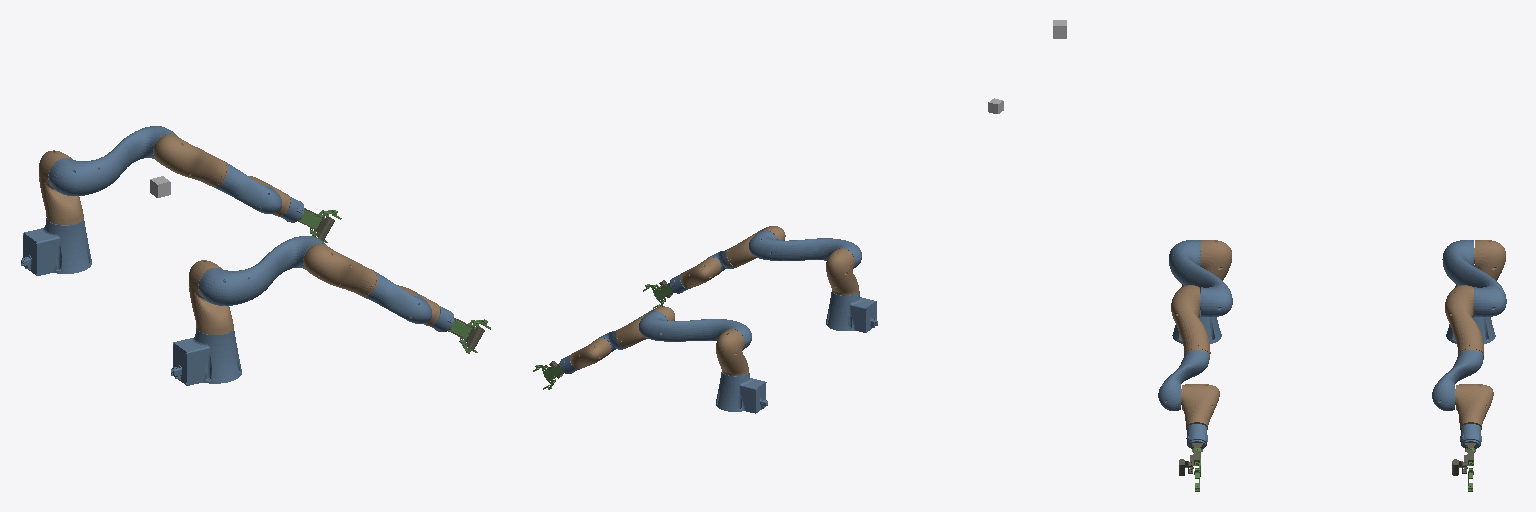
--- Render facts (derived) ---
Views: 3 orthographic renders of the robot side by side, from view 1: azimuth 30°, elevation 25°; view 2: azimuth 150°, elevation 25°; view 3: azimuth 270°, elevation 25°.
Model hsr_co605_double_arm_with_gripper with 34 links and 33 joints (12 revolute, 8 continuous, 13 fixed), rooted at world, posed all joints at 0 but 2 set to mid-range because 0 is outside their limits (joint_3 = 2.18, R_joint_3 = 2.18).
Visible links, largest first — view 1: R_link2, link2, base_link, base_link2, link3, R_link3, R_link1, link1, R_link4, link4; view 2: R_link2, link2, base_link, base_link2, link1, R_link1, R_link5, link5, link3, R_link3; view 3: link2, R_link2, R_link3, link3, R_link4, link4, link5, R_link5, R_link1, link1.
Boxes of the visible links, bbox=[...] form: R_link2: bbox=[48, 126, 175, 195]; link2: bbox=[198, 236, 325, 305]; base_link: bbox=[171, 328, 241, 385]; base_link2: bbox=[21, 218, 91, 275]; link3: bbox=[303, 243, 377, 296]; R_link3: bbox=[153, 134, 227, 186]; R_link1: bbox=[39, 150, 83, 224]; link1: bbox=[189, 260, 233, 334]; R_link4: bbox=[214, 162, 281, 213]; link4: bbox=[364, 272, 431, 323]; R_link2: bbox=[639, 311, 751, 349]; link2: bbox=[749, 230, 861, 268]; base_link: bbox=[826, 291, 877, 332]; base_link2: bbox=[716, 372, 767, 413]; link1: bbox=[826, 248, 858, 295]; R_link1: bbox=[716, 329, 748, 375]; R_link5: bbox=[570, 338, 610, 369]; link5: bbox=[680, 257, 720, 288]; link3: bbox=[726, 226, 785, 267]; R_link3: bbox=[616, 306, 674, 347]; link2: bbox=[1169, 240, 1232, 316]; R_link2: bbox=[1442, 240, 1506, 316]; R_link3: bbox=[1445, 285, 1483, 357]; link3: bbox=[1171, 285, 1210, 354]; R_link4: bbox=[1432, 350, 1483, 410]; link4: bbox=[1158, 350, 1209, 410]; link5: bbox=[1181, 384, 1219, 429]; R_link5: bbox=[1455, 384, 1493, 429]; R_link1: bbox=[1455, 240, 1505, 287]; link1: bbox=[1181, 240, 1231, 287].
Bounding box of the posed robot: 1.58 × 1.66 × 1.19 m (x, y, z).
Meshes: 15 distinct files referenced, 30 mesh visuals loaded (15 binary STL).

robot.urdf — hsr_co605_double_arm_with_gripper:
<?xml version="1.0" ?>
<!-- =================================================================================== -->
<!-- |    This document was autogenerated by xacro from hsr_co605_gripper_onhand_kinect2.xacro | -->
<!-- |    EDITING THIS FILE BY HAND IS NOT RECOMMENDED                                 | -->
<!-- =================================================================================== -->
<robot name="hsr_co605_double_arm_with_gripper" xmlns:xacro="http://ros.org/wiki/xacro">
  <link name="world"/>
  <joint name="fixed" type="fixed">
    <parent link="world"/>
    <child link="base_link"/>
    <origin rpy="0 0 0" xyz="0 0 1"/>
  </joint>
  <joint name="fixed2" type="fixed">
    <parent link="world"/>
    <child link="base_link2"/>
    <origin rpy="0 0 0" xyz="0 1 1"/>
  </joint>
  <link name="base_link">
    <inertial>
      <origin rpy="0 0 0" xyz="-0.021912 3.5206E-07 0.072666"/>
      <mass value="3.5836"/>
      <inertia ixx="2.9136E-05" ixy="-2.1811E-09" ixz="-0.00010967" iyy="0.00060536" iyz="-4.5389E-10" izz="0.000578"/>
    </inertial>
    <visual>
      <origin rpy="0 0 0" xyz="0 0 0"/>
      <geometry>
        <mesh filename="package://hsr_description/meshes/co605/base_link.STL"/>
      </geometry>
      <material name="">
        <color rgba="0.4 0.5 0.6 1"/>
      </material>
    </visual>
    <collision>
      <origin rpy="0 0 0" xyz="0 0 0"/>
      <geometry>
        <mesh filename="package://hsr_description/meshes/co605/base_link.STL"/>
      </geometry>
    </collision>
  </link>
  <link name="base_link2">
    <inertial>
      <origin rpy="0 0 0" xyz="-0.021912 3.5206E-07 0.072666"/>
      <mass value="3.5836"/>
      <inertia ixx="2.9136E-05" ixy="-2.1811E-09" ixz="-0.00010967" iyy="0.00060536" iyz="-4.5389E-10" izz="0.000578"/>
    </inertial>
    <visual>
      <origin rpy="0 0 0" xyz="0 0 0"/>
      <geometry>
        <mesh filename="package://hsr_description/meshes/co605/base_link.STL"/>
      </geometry>
      <material name="">
        <color rgba="0.4 0.5 0.6 1"/>
      </material>
    </visual>
    <collision>
      <origin rpy="0 0 0" xyz="0 0 0"/>
      <geometry>
        <mesh filename="package://hsr_description/meshes/co605/base_link.STL"/>
      </geometry>
    </collision>
  </link>
  <!--  -->
  <link name="link1">
    <inertial>
      <origin rpy="0 0 0" xyz="6.6053E-07 -0.041864 0.057461"/>
      <mass value="2.2858"/>
      <inertia ixx="0.0028736" ixy="-1.2977E-08" ixz="-1.1421E-08" iyy="0.0012558" iyz="-0.0014242" izz="0.001619"/>
    </inertial>
    <visual>
      <origin rpy="0 0 0" xyz="0 0 0"/>
      <geometry>
        <mesh filename="package://hsr_description/meshes/co605/link1.STL"/>
      </geometry>
      <material name="">
        <color rgba="0.6 0.5 0.4 1"/>
      </material>
    </visual>
    <collision>
      <origin rpy="0 0 0" xyz="0 0 0"/>
      <geometry>
        <mesh filename="package://hsr_description/meshes/co605/link1.STL"/>
      </geometry>
    </collision>
  </link>
  <joint name="joint_1" type="revolute">
    <origin rpy="-3.1416 5.9903E-29 -1.4937E-16" xyz="0 0 0.3215"/>
    <parent link="base_link"/>
    <child link="link1"/>
    <axis xyz="0 0 -1"/>
    <limit effort="28" lower="-3.1415926" upper="3.1415926" velocity="3.2"/>
    <safety_controller k_position="100" k_velocity="10" soft_lower_limit="-3.481931857728" soft_upper_limit="3.481931857728"/>
  </joint>
  <link name="link2">
    <inertial>
      <origin rpy="0 0 0" xyz="1.0568E-05 -0.1934 0.0072764"/>
      <mass value="3.9796"/>
      <inertia ixx="0.024928" ixy="-9.3143E-07" ixz="4.2908E-07" iyy="0.0049988" iyz="0.0099684" izz="0.019932"/>
    </inertial>
    <visual>
      <origin rpy="0 0 0" xyz="0 0 0"/>
      <geometry>
        <mesh filename="package://hsr_description/meshes/co605/link2.STL"/>
      </geometry>
      <material name="">
        <color rgba="0.4 0.5 0.6 1"/>
      </material>
    </visual>
    <collision>
      <origin rpy="0 0 0" xyz="0 0 0"/>
      <geometry>
        <mesh filename="package://hsr_description/meshes/co605/link2.STL"/>
      </geometry>
    </collision>
  </link>
  <joint name="joint_2" type="revolute">
    <origin rpy="1.5708 -1.5708 0" xyz="0 0 0"/>
    <parent link="link1"/>
    <child link="link2"/>
    <axis xyz="0 0 1"/>
    <limit effort="28" lower="-3.1415926" upper="0.6977" velocity="3.2"/>
    <safety_controller k_position="100" k_velocity="10" soft_lower_limit="-2.260201381332" soft_upper_limit="1"/>
  </joint>
  <link name="link3">
    <inertial>
      <origin rpy="0 0 0" xyz="-4.1646E-06 -0.084864 -0.023661"/>
      <mass value="2.3017"/>
      <inertia ixx="0.0050619" ixy="1.9871E-07" ixz="-9.377E-08" iyy="0.00080339" iyz="0.0014584" izz="0.0043189"/>
    </inertial>
    <visual>
      <origin rpy="0 0 0" xyz="0 0 0"/>
      <geometry>
        <mesh filename="package://hsr_description/meshes/co605/link3.STL"/>
      </geometry>
      <material name="">
        <color rgba="0.6 0.5 0.4 1"/>
      </material>
    </visual>
    <collision>
      <origin rpy="0 0 0" xyz="0 0 0"/>
      <geometry>
        <mesh filename="package://hsr_description/meshes/co605/link3.STL"/>
      </geometry>
    </collision>
  </link>
  <joint name="joint_3" type="revolute">
    <origin rpy="-7.0321E-15 1.0327E-14 -1.5708" xyz="0 -0.4 0"/>
    <parent link="link2"/>
    <child link="link3"/>
    <axis xyz="0 0 1"/>
    <limit effort="28" lower="0.61084" upper="3.752347" velocity="3.2"/>
    <safety_controller k_position="100" k_velocity="10" soft_lower_limit="0.008726646259" soft_upper_limit="3.656464782928"/>
  </joint>
  <link name="link4">
    <inertial>
      <origin rpy="0 0 0" xyz="0.058545 -4.4729E-06 0.33207"/>
      <mass value="1.1696"/>
      <inertia ixx="0.00052342" ixy="-2.9755E-08" ixz="-0.0004967" iyy="0.00099547" iyz="-3.1299E-08" izz="0.00047263"/>
    </inertial>
    <visual>
      <origin rpy="0 0 0" xyz="0 0 0"/>
      <geometry>
        <mesh filename="package://hsr_description/meshes/co605/link4.STL"/>
      </geometry>
      <material name="">
        <color rgba="0.4 0.5 0.6 1"/>
      </material>
    </visual>
    <collision>
      <origin rpy="0 0 0" xyz="0 0 0"/>
      <geometry>
        <mesh filename="package://hsr_description/meshes/co605/link4.STL"/>
      </geometry>
    </collision>
  </link>
  <joint name="joint_4" type="revolute">
    <origin rpy="1.5708 1.5708 0" xyz="0 0 0"/>
    <parent link="link3"/>
    <child link="link4"/>
    <axis xyz="0 0 1"/>
    <limit effort="28" lower="-1.0" upper="3.0" velocity="3.2"/>
    <safety_controller k_position="100" k_velocity="10" soft_lower_limit="-3.0" soft_upper_limit="3.0"/>
  </joint>
  <link name="link5">
    <inertial>
      <origin rpy="0 0 0" xyz="-1.4755E-07 -0.034466 0.0044663"/>
      <mass value="1.4115"/>
      <inertia ixx="0.0015897" ixy="-6.782E-09" ixz="-1.3146E-08" iyy="0.0006121" iyz="-0.00040625" izz="0.00097818"/>
    </inertial>
    <visual>
      <origin rpy="0 0 0" xyz="0 0 0"/>
      <geometry>
        <mesh filename="package://hsr_description/meshes/co605/link5.STL"/>
      </geometry>
      <material name="">
        <color rgba="0.6 0.5 0.4 1"/>
      </material>
    </visual>
    <collision>
      <origin rpy="0 0 0" xyz="0 0 0"/>
      <geometry>
        <mesh filename="package://hsr_description/meshes/co605/link5.STL"/>
      </geometry>
    </collision>
  </link>
  <joint name="joint_5" type="revolute">
    <origin rpy="-1.5708 -3.2281E-16 1.5708" xyz="0 0 0.4"/>
    <parent link="link4"/>
    <child link="link5"/>
    <axis xyz="0 0 1"/>
    <limit effort="28" lower="-1.65801388" upper="2.181597222" velocity="3.2"/>
    <safety_controller k_position="100" k_velocity="10" soft_lower_limit="-2.260201381332" soft_upper_limit="2.260201381332"/>
  </joint>
  <link name="link6">
    <inertial>
      <origin rpy="0 0 0" xyz="-9.6295E-05 0.00016669 -0.035518"/>
      <mass value="0.30888"/>
      <inertia ixx="8.8278E-05" ixy="-1.1971E-06" ixz="3.4899E-07" iyy="8.9661E-05" iyz="-6.0395E-07" izz="5.5013E-06"/>
    </inertial>
    <visual>
      <origin rpy="0 0 0" xyz="0 0 0"/>
      <geometry>
        <mesh filename="package://hsr_description/meshes/co605/link6.STL"/>
      </geometry>
      <material name="">
        <color rgba="0.4 0.5 0.6 1"/>
      </material>
    </visual>
    <collision>
      <origin rpy="0 0 0" xyz="0 0 0"/>
      <geometry>
        <mesh filename="package://hsr_description/meshes/co605/link6.STL"/>
      </geometry>
    </collision>
  </link>
  <joint name="joint_6" type="revolute">
    <origin rpy="-1.5708 2.7756E-17 -3.1416" xyz="0 -0.205 0"/>
    <parent link="link5"/>
    <child link="link6"/>
    <axis xyz="0 0 1"/>
    <limit effort="28" lower="-3.14" upper="3.14" velocity="3.2"/>
    <safety_controller k_position="100" k_velocity="10" soft_lower_limit="-5.1" soft_upper_limit="5.1"/>
  </joint>
  <!--    -->
  <link name="R_link1">
    <inertial>
      <origin rpy="0 0 0" xyz="6.6053E-07 -0.041864 0.057461"/>
      <mass value="2.2858"/>
      <inertia ixx="0.0028736" ixy="-1.2977E-08" ixz="-1.1421E-08" iyy="0.0012558" iyz="-0.0014242" izz="0.001619"/>
    </inertial>
    <visual>
      <origin rpy="0 0 0" xyz="0 0 0"/>
      <geometry>
        <mesh filename="package://hsr_description/meshes/co605/link1.STL"/>
      </geometry>
      <material name="">
        <color rgba="0.6 0.5 0.4 1"/>
      </material>
    </visual>
    <collision>
      <origin rpy="0 0 0" xyz="0 0 0"/>
      <geometry>
        <mesh filename="package://hsr_description/meshes/co605/link1.STL"/>
      </geometry>
    </collision>
  </link>
  <joint name="R_joint_1" type="revolute">
    <origin rpy="-3.1416 5.9903E-29 -1.4937E-16" xyz="0 0 0.3215"/>
    <parent link="base_link2"/>
    <child link="R_link1"/>
    <axis xyz="0 0 -1"/>
    <limit effort="28" lower="-3.490658503988" upper="3.490658503988" velocity="3.2"/>
    <safety_controller k_position="100" k_velocity="10" soft_lower_limit="-3.481931857728" soft_upper_limit="3.481931857728"/>
  </joint>
  <link name="R_link2">
    <inertial>
      <origin rpy="0 0 0" xyz="1.0568E-05 -0.1934 0.0072764"/>
      <mass value="3.9796"/>
      <inertia ixx="0.024928" ixy="-9.3143E-07" ixz="4.2908E-07" iyy="0.0049988" iyz="0.0099684" izz="0.019932"/>
    </inertial>
    <visual>
      <origin rpy="0 0 0" xyz="0 0 0"/>
      <geometry>
        <mesh filename="package://hsr_description/meshes/co605/link2.STL"/>
      </geometry>
      <material name="">
        <color rgba="0.4 0.5 0.6 1"/>
      </material>
    </visual>
    <collision>
      <origin rpy="0 0 0" xyz="0 0 0"/>
      <geometry>
        <mesh filename="package://hsr_description/meshes/co605/link2.STL"/>
      </geometry>
    </collision>
  </link>
  <joint name="R_joint_2" type="revolute">
    <origin rpy="1.5708 -1.5708 0" xyz="0 0 0"/>
    <parent link="R_link1"/>
    <child link="R_link2"/>
    <axis xyz="0 0 1"/>
    <limit effort="28" lower="-2.268928027592" upper="1" velocity="3.2"/>
    <safety_controller k_position="100" k_velocity="10" soft_lower_limit="-2.260201381332" soft_upper_limit="1"/>
  </joint>
  <link name="R_link3">
    <inertial>
      <origin rpy="0 0 0" xyz="-4.1646E-06 -0.084864 -0.023661"/>
      <mass value="2.3017"/>
      <inertia ixx="0.0050619" ixy="1.9871E-07" ixz="-9.377E-08" iyy="0.00080339" iyz="0.0014584" izz="0.0043189"/>
    </inertial>
    <visual>
      <origin rpy="0 0 0" xyz="0 0 0"/>
      <geometry>
        <mesh filename="package://hsr_description/meshes/co605/link3.STL"/>
      </geometry>
      <material name="">
        <color rgba="0.6 0.5 0.4 1"/>
      </material>
    </visual>
    <collision>
      <origin rpy="0 0 0" xyz="0 0 0"/>
      <geometry>
        <mesh filename="package://hsr_description/meshes/co605/link3.STL"/>
      </geometry>
    </collision>
  </link>
  <joint name="R_joint_3" type="revolute">
    <origin rpy="-7.0321E-15 1.0327E-14 -1.5708" xyz="0 -0.4 0"/>
    <parent link="R_link2"/>
    <child link="R_link3"/>
    <axis xyz="0 0 1"/>
    <limit effort="28" lower="0.61084" upper="3.752347" velocity="3.2"/>
    <safety_controller k_position="100" k_velocity="10" soft_lower_limit="0.008726646259" soft_upper_limit="3.656464782928"/>
  </joint>
  <link name="R_link4">
    <inertial>
      <origin rpy="0 0 0" xyz="0.058545 -4.4729E-06 0.33207"/>
      <mass value="1.1696"/>
      <inertia ixx="0.00052342" ixy="-2.9755E-08" ixz="-0.0004967" iyy="0.00099547" iyz="-3.1299E-08" izz="0.00047263"/>
    </inertial>
    <visual>
      <origin rpy="0 0 0" xyz="0 0 0"/>
      <geometry>
        <mesh filename="package://hsr_description/meshes/co605/link4.STL"/>
      </geometry>
      <material name="">
        <color rgba="0.4 0.5 0.6 1"/>
      </material>
    </visual>
    <collision>
      <origin rpy="0 0 0" xyz="0 0 0"/>
      <geometry>
        <mesh filename="package://hsr_description/meshes/co605/link4.STL"/>
      </geometry>
    </collision>
  </link>
  <joint name="R_joint_4" type="revolute">
    <origin rpy="1.5708 1.5708 0" xyz="0 0 0"/>
    <parent link="R_link3"/>
    <child link="R_link4"/>
    <axis xyz="0 0 1"/>
    <limit effort="28" lower="-3.0" upper="1.0" velocity="3.2"/>
    <safety_controller k_position="100" k_velocity="10" soft_lower_limit="-3.0" soft_upper_limit="3.0"/>
  </joint>
  <link name="R_link5">
    <inertial>
      <origin rpy="0 0 0" xyz="-1.4755E-07 -0.034466 0.0044663"/>
      <mass value="1.4115"/>
      <inertia ixx="0.0015897" ixy="-6.782E-09" ixz="-1.3146E-08" iyy="0.0006121" iyz="-0.00040625" izz="0.00097818"/>
    </inertial>
    <visual>
      <origin rpy="0 0 0" xyz="0 0 0"/>
      <geometry>
        <mesh filename="package://hsr_description/meshes/co605/link5.STL"/>
      </geometry>
      <material name="">
        <color rgba="0.6 0.5 0.4 1"/>
      </material>
    </visual>
    <collision>
      <origin rpy="0 0 0" xyz="0 0 0"/>
      <geometry>
        <mesh filename="package://hsr_description/meshes/co605/link5.STL"/>
      </geometry>
    </collision>
  </link>
  <joint name="R_joint_5" type="revolute">
    <origin rpy="-1.5708 -3.2281E-16 1.5708" xyz="0 0 0.4"/>
    <parent link="R_link4"/>
    <child link="R_link5"/>
    <axis xyz="0 0 1"/>
    <limit effort="28" lower="-1.65801388" upper="2.181597222" velocity="3.2"/>
    <safety_controller k_position="100" k_velocity="10" soft_lower_limit="-2.260201381332" soft_upper_limit="2.260201381332"/>
  </joint>
  <link name="R_link6">
    <inertial>
      <origin rpy="0 0 0" xyz="-9.6295E-05 0.00016669 -0.035518"/>
      <mass value="0.30888"/>
      <inertia ixx="8.8278E-05" ixy="-1.1971E-06" ixz="3.4899E-07" iyy="8.9661E-05" iyz="-6.0395E-07" izz="5.5013E-06"/>
    </inertial>
    <visual>
      <origin rpy="0 0 0" xyz="0 0 0"/>
      <geometry>
        <mesh filename="package://hsr_description/meshes/co605/link6.STL"/>
      </geometry>
      <material name="">
        <color rgba="0.4 0.5 0.6 1"/>
      </material>
    </visual>
    <collision>
      <origin rpy="0 0 0" xyz="0 0 0"/>
      <geometry>
        <mesh filename="package://hsr_description/meshes/co605/link6.STL"/>
      </geometry>
    </collision>
  </link>
  <joint name="R_joint_6" type="revolute">
    <origin rpy="-1.5708 2.7756E-17 -3.1416" xyz="0 -0.205 0"/>
    <parent link="R_link5"/>
    <child link="R_link6"/>
    <axis xyz="0 0 1"/>
    <limit effort="28" lower="-3.14" upper="3.14" velocity="3.2"/>
    <safety_controller k_position="100" k_velocity="10" soft_lower_limit="-5.1" soft_upper_limit="5.1"/>
  </joint>
  <!-- Size of square 'camera' box -->
  <link name="camera_link">
    <collision>
      <origin rpy="0 0 0" xyz="0 0 0"/>
      <geometry>
        <box size="0.05 0.05 0.05"/>
      </geometry>
    </collision>
    <visual>
      <origin rpy="0 0 0" xyz="0 0 0"/>
      <geometry>
        <box size="0.05 0.05 0.05"/>
      </geometry>
      <material name="red"/>
    </visual>
    <inertial>
      <mass value="1e-5"/>
      <origin rpy="0 0 0" xyz="0 0 0"/>
      <inertia ixx="1e-6" ixy="0" ixz="0" iyy="1e-6" iyz="0" izz="1e-6"/>
    </inertial>
  </link>
  <!-- kinect -->
  <gazebo reference="camera_link">
    <sensor name="openni_camera_camera" type="depth">
      <always_on>1</always_on>
      <visualize>true</visualize>
      <camera>
        <horizontal_fov>1.047</horizontal_fov>
        <image>
          <width>640</width>
          <height>480</height>
          <format>B8G8R8</format>
        </image>
        <depth_camera>

            </depth_camera>
        <clip>
          <near>0.1</near>
          <far>100</far>
        </clip>
      </camera>
      <plugin filename="libgazebo_ros_openni_kinect.so" name="camera_controller">
        <alwaysOn>true</alwaysOn>
        <baseline>0.2</baseline>
        <updateRate>30</updateRate>
        <cameraName>camera</cameraName>
        <frameName>kinect_frame</frameName>
        <imageTopicName>rgb/image_raw</imageTopicName>
        <depthImageTopicName>depth/image_raw</depthImageTopicName>
        <pointCloudTopicName>depth/points</pointCloudTopicName>
        <cameraInfoTopicName>rgb/camera_info</cameraInfoTopicName>
        <depthImageCameraInfoTopicName>depth/camera_info</depthImageCameraInfoTopicName>
        <pointCloudCutoff>0.5</pointCloudCutoff>
        <distortionK1>0</distortionK1>
        <distortionK2>0</distortionK2>
        <distortionK3>0</distortionK3>
        <distortionT1>0</distortionT1>
        <distortionT2>0</distortionT2>
        <CxPrime>0.0</CxPrime>
        <Cx>0.0</Cx>
        <Cy>0.0</Cy>
        <focalLength>0.0</focalLength>
      </plugin>
    </sensor>
  </gazebo>
  <link name="gripper_base_link_0">
    <inertial>
      <origin rpy="0 0 0" xyz="0.000131706391042187 -0.0390683856464977 0.081199520192839"/>
      <mass value="0.145677232438391"/>
      <inertia ixx="8.40495062422861E-05" ixy="-6.82136717259575E-07" ixz="9.08788702310012E-07" iyy="4.96036917958725E-05" iyz="3.95062698042515E-05" izz="3.44803015215572E-05"/>
    </inertial>
    <visual>
      <origin rpy="0 0 0" xyz="0 0 0"/>
      <geometry>
        <mesh filename="package://hsr_description/meshes/eye_hand_gripper/base_link.STL"/>
      </geometry>
      <material name="">
        <color rgba="0.4 0.4 0.35 1"/>
      </material>
    </visual>
    <collision>
      <origin rpy="0 0 0" xyz="0 0 0"/>
      <geometry>
        <mesh filename="package://hsr_description/meshes/eye_hand_gripper/base_link.STL"/>
      </geometry>
    </collision>
  </link>
  <link name="grisper_boby_link_0">
    <inertial>
      <origin rpy="0 0 0" xyz="2.84228059294067E-05 -0.000875529500481004 -0.00997402814116276"/>
      <mass value="0.0387962759306602"/>
      <inertia ixx="0" ixy="0" ixz="0" iyy="0" iyz="0" izz="0"/>
    </inertial>
    <visual>
      <origin rpy="0 0 0" xyz="0 0 0"/>
      <geometry>
        <mesh filename="package://hsr_description/meshes/eye_hand_gripper/grisper_boby_link.STL"/>
      </geometry>
      <material name="">
        <color rgba="0.4 0.55 0.35 1"/>
      </material>
    </visual>
    <collision>
      <origin rpy="0 0 0" xyz="0 0 0"/>
      <geometry>
        <mesh filename="package://hsr_description/meshes/eye_hand_gripper/grisper_boby_link.STL"/>
      </geometry>
    </collision>
  </link>
  <joint name="grisper_boby_joint_0" type="fixed">
    <origin rpy="1.5708 1.3479E-15 1.3852E-15" xyz="0 -0.01 0.064"/>
    <parent link="gripper_base_link_0"/>
    <child link="grisper_boby_link_0"/>
    <axis xyz="0 0 0"/>
  </joint>
  <link name="right_finger_1_link_0">
    <inertial>
      <origin rpy="0 0 0" xyz="-2.92388038200531E-06 0.0168231601122346 0.0089790044607883"/>
      <mass value="0.00235032514171626"/>
      <inertia ixx="0" ixy="0" ixz="0" iyy="0" iyz="0" izz="0"/>
    </inertial>
    <visual>
      <origin rpy="0 0 0" xyz="0 0 0"/>
      <geometry>
        <mesh filename="package://hsr_description/meshes/eye_hand_gripper/right_finger_1_link.STL"/>
      </geometry>
      <material name="">
        <color rgba="0.4 0.55 0.35 1"/>
      </material>
    </visual>
    <collision>
      <origin rpy="0 0 0" xyz="0 0 0"/>
      <geometry>
        <mesh filename="package://hsr_description/meshes/eye_hand_gripper/right_finger_1_link.STL"/>
      </geometry>
    </collision>
  </link>
  <joint name="right_finger_1_joint_0" type="continuous">
    <origin rpy="0 0 -0.501740656078991" xyz="0.04 0.036 -0.019"/>
    <parent link="grisper_boby_link_0"/>
    <child link="right_finger_1_link_0"/>
    <axis xyz="0 0 1"/>
  </joint>
  <link name="right_finger_2_link_0">
    <inertial>
      <origin rpy="0 0 0" xyz="-0.0085798133911776 0.00661394976740351 0.00600000756322747"/>
      <mass value="0.00200167864656235"/>
      <inertia ixx="0" ixy="0" ixz="0" iyy="0" iyz="0" izz="0"/>
    </inertial>
    <visual>
      <origin rpy="0 0 0" xyz="0 0 0"/>
      <geometry>
        <mesh filename="package://hsr_description/meshes/eye_hand_gripper/right_finger_2_link.STL"/>
      </geometry>
      <material name="">
        <color rgba="0.4 0.55 0.35 1"/>
      </material>
    </visual>
    <collision>
      <origin rpy="0 0 0" xyz="0 0 0"/>
      <geometry>
        <mesh filename="package://hsr_description/meshes/eye_hand_gripper/right_finger_2_link.STL"/>
      </geometry>
    </collision>
  </link>
  <joint name="right_finger_2_joint_0" type="continuous">
    <origin rpy="0 0 0.501740656078991" xyz="0 0.042 0.00300000000000001"/>
    <parent link="right_finger_1_link_0"/>
    <child link="right_finger_2_link_0"/>
    <axis xyz="0 0 1"/>
  </joint>
  <link name="right_finger_end_link_0">
    <inertial>
      <origin rpy="0 0 0" xyz="-0.0181096606742553 0.00899999232533871 0.000419374358405108"/>
      <mass value="0.00169081070175499"/>
      <inertia ixx="0" ixy="0" ixz="0" iyy="0" iyz="0" izz="0"/>
    </inertial>
    <visual>
      <origin rpy="0 0 0" xyz="0 0 0"/>
      <geometry>
        <mesh filename="package://hsr_description/meshes/eye_hand_gripper/right_finger_end_link.STL"/>
      </geometry>
      <material name="">
        <color rgba="0.4 0.55 0.35 1"/>
      </material>
    </visual>
    <collision>
      <origin rpy="0 0 0" xyz="0 0 0"/>
      <geometry>
        <mesh filename="package://hsr_description/meshes/eye_hand_gripper/right_finger_end_link.STL"/>
      </geometry>
    </collision>
  </link>
  <joint name="right_finger_end_joint_0" type="fixed">
    <origin rpy="1.5707963267949 0 -1.5707963267949" xyz="-0.0145 -0.0035 -0.00300000000000001"/>
    <parent link="right_finger_2_link_0"/>
    <child link="right_finger_end_link_0"/>
    <axis xyz="0 0 0"/>
  </joint>
  <link name="left_finger_1_link_0">
    <inertial>
      <origin rpy="0 0 0" xyz="-2.92395601426965E-06 0.0168231599777492 0.00897900452955606"/>
      <mass value="0.0023503251697047"/>
      <inertia ixx="0" ixy="0" ixz="0" iyy="0" iyz="0" izz="0"/>
    </inertial>
    <visual>
      <origin rpy="0 0 0" xyz="0 0 0"/>
      <geometry>
        <mesh filename="package://hsr_description/meshes/eye_hand_gripper/left_finger_1_link.STL"/>
      </geometry>
      <material name="">
        <color rgba="0.4 0.55 0.35 1"/>
      </material>
    </visual>
    <collision>
      <origin rpy="0 0 0" xyz="0 0 0"/>
      <geometry>
        <mesh filename="package://hsr_description/meshes/eye_hand_gripper/left_finger_1_link.STL"/>
      </geometry>
    </collision>
  </link>
  <joint name="left_finger_1_joint_0" type="continuous">
    <origin rpy="0 0 0.501740656078991" xyz="-0.04 0.036 -0.019"/>
    <parent link="grisper_boby_link_0"/>
    <child link="left_finger_1_link_0"/>
    <axis xyz="0 0 1"/>
  </joint>
  <link name="left_finger_2_link_0">
    <inertial>
      <origin rpy="0 0 0" xyz="-0.00857981339117761 0.00661394976740348 0.00600000756322748"/>
      <mass value="0.00200167864656235"/>
      <inertia ixx="0" ixy="0" ixz="0" iyy="0" iyz="0" izz="0"/>
    </inertial>
    <visual>
      <origin rpy="0 0 0" xyz="0 0 0"/>
      <geometry>
        <mesh filename="package://hsr_description/meshes/eye_hand_gripper/left_finger_2_link.STL"/>
      </geometry>
      <material name="">
        <color rgba="0.4 0.55 0.35 1"/>
      </material>
    </visual>
    <collision>
      <origin rpy="0 0 0" xyz="0 0 0"/>
      <geometry>
        <mesh filename="package://hsr_description/meshes/eye_hand_gripper/left_finger_2_link.STL"/>
      </geometry>
    </collision>
  </link>
  <joint name="left_finger_2_joint_0" type="continuous">
    <origin rpy="3.14159265358979 0 2.6398519975108" xyz="0 0.0419999999999999 0.0149999999999995"/>
    <parent link="left_finger_1_link_0"/>
    <child link="left_finger_2_link_0"/>
    <axis xyz="0 0 1"/>
  </joint>
  <link name="left_finger_end_link_0">
    <inertial>
      <origin rpy="0 0 0" xyz="-0.0181096606742553 0.00899999232533872 0.000419374358405097"/>
      <mass value="0.00169081070175499"/>
      <inertia ixx="0" ixy="0" ixz="0" iyy="0" iyz="0" izz="0"/>
    </inertial>
    <visual>
      <origin rpy="0 0 0" xyz="0 0 0"/>
      <geometry>
        <mesh filename="package://hsr_description/meshes/eye_hand_gripper/left_finger_end_link.STL"/>
      </geometry>
      <material name="">
        <color rgba="0.4 0.55 0.35 1"/>
      </material>
    </visual>
    <collision>
      <origin rpy="0 0 0" xyz="0 0 0"/>
      <geometry>
        <mesh filename="package://hsr_description/meshes/eye_hand_gripper/left_finger_end_link.STL"/>
      </geometry>
    </collision>
  </link>
  <joint name="left_finger_end_joint_0" type="fixed">
    <origin rpy="1.5707963267949 8.67361737988403E-17 -1.5707963267949" xyz="-0.0144999999999999 -0.0035 -0.00299999999999996"/>
    <parent link="left_finger_2_link_0"/>
    <child link="left_finger_end_link_0"/>
    <axis xyz="0 0 0"/>
  </joint>
  <link name="pick_gripper_link_0">
    <visual>
      <origin rpy="0 0 0" xyz="0 0 0"/>
      <geometry>
        <box size="0.001 0.0005 0.0005"/>
      </geometry>
    </visual>
  </link>
  <transmission name="tran1_0">
    <type>transmission_interface/SimpleTransmission</type>
    <joint name="right_finger_1_joint_0">
      <hardwareInterface>PositionJointInterface</hardwareInterface>
    </joint>
    <actuator name="right_finger_1_motor_0">
      <hardwareInterface>PositionJointInterface</hardwareInterface>
      <mechanicalReduction>1</mechanicalReduction>
    </actuator>
  </transmission>
  <transmission name="tran2_0">
    <type>transmission_interface/SimpleTransmission</type>
    <joint name="right_finger_2_joint_0">
      <hardwareInterface>PositionJointInterface</hardwareInterface>
    </joint>
    <actuator name="right_finger_2_motor_0">
      <hardwareInterface>PositionJointInterface</hardwareInterface>
      <mechanicalReduction>1</mechanicalReduction>
    </actuator>
  </transmission>
  <transmission name="tran3_0">
    <type>transmission_interface/SimpleTransmission</type>
    <joint name="left_finger_1_joint_0">
      <hardwareInterface>PositionJointInterface</hardwareInterface>
    </joint>
    <actuator name="left_finger_1_motor_0">
      <hardwareInterface>PositionJointInterface</hardwareInterface>
      <mechanicalReduction>1</mechanicalReduction>
    </actuator>
  </transmission>
  <transmission name="tran4_0">
    <type>transmission_interface/SimpleTransmission</type>
    <joint name="left_finger_2_joint_0">
      <hardwareInterface>PositionJointInterface</hardwareInterface>
    </joint>
    <actuator name="left_finger_2_motor_0">
      <hardwareInterface>PositionJointInterface</hardwareInterface>
      <mechanicalReduction>1</mechanicalReduction>
    </actuator>
  </transmission>
  <link name="gripper_base_link_1">
    <inertial>
      <origin rpy="0 0 0" xyz="0.000131706391042187 -0.0390683856464977 0.081199520192839"/>
      <mass value="0.145677232438391"/>
      <inertia ixx="8.40495062422861E-05" ixy="-6.82136717259575E-07" ixz="9.08788702310012E-07" iyy="4.96036917958725E-05" iyz="3.95062698042515E-05" izz="3.44803015215572E-05"/>
    </inertial>
    <visual>
      <origin rpy="0 0 0" xyz="0 0 0"/>
      <geometry>
        <mesh filename="package://hsr_description/meshes/eye_hand_gripper/base_link.STL"/>
      </geometry>
      <material name="">
        <color rgba="0.4 0.4 0.35 1"/>
      </material>
    </visual>
    <collision>
      <origin rpy="0 0 0" xyz="0 0 0"/>
      <geometry>
        <mesh filename="package://hsr_description/meshes/eye_hand_gripper/base_link.STL"/>
      </geometry>
    </collision>
  </link>
  <link name="grisper_boby_link_1">
    <inertial>
      <origin rpy="0 0 0" xyz="2.84228059294067E-05 -0.000875529500481004 -0.00997402814116276"/>
      <mass value="0.0387962759306602"/>
      <inertia ixx="0" ixy="0" ixz="0" iyy="0" iyz="0" izz="0"/>
    </inertial>
    <visual>
      <origin rpy="0 0 0" xyz="0 0 0"/>
      <geometry>
        <mesh filename="package://hsr_description/meshes/eye_hand_gripper/grisper_boby_link.STL"/>
      </geometry>
      <material name="">
        <color rgba="0.4 0.55 0.35 1"/>
      </material>
    </visual>
    <collision>
      <origin rpy="0 0 0" xyz="0 0 0"/>
      <geometry>
        <mesh filename="package://hsr_description/meshes/eye_hand_gripper/grisper_boby_link.STL"/>
      </geometry>
    </collision>
  </link>
  <joint name="grisper_boby_joint_1" type="fixed">
    <origin rpy="1.5708 1.3479E-15 1.3852E-15" xyz="0 -0.01 0.064"/>
    <parent link="gripper_base_link_1"/>
    <child link="grisper_boby_link_1"/>
    <axis xyz="0 0 0"/>
  </joint>
  <link name="right_finger_1_link_1">
    <inertial>
      <origin rpy="0 0 0" xyz="-2.92388038200531E-06 0.0168231601122346 0.0089790044607883"/>
      <mass value="0.00235032514171626"/>
      <inertia ixx="0" ixy="0" ixz="0" iyy="0" iyz="0" izz="0"/>
    </inertial>
    <visual>
      <origin rpy="0 0 0" xyz="0 0 0"/>
      <geometry>
        <mesh filename="package://hsr_description/meshes/eye_hand_gripper/right_finger_1_link.STL"/>
      </geometry>
      <material name="">
        <color rgba="0.4 0.55 0.35 1"/>
      </material>
    </visual>
    <collision>
      <origin rpy="0 0 0" xyz="0 0 0"/>
      <geometry>
        <mesh filename="package://hsr_description/meshes/eye_hand_gripper/right_finger_1_link.STL"/>
      </geometry>
    </collision>
  </link>
  <joint name="right_finger_1_joint_1" type="continuous">
    <origin rpy="0 0 -0.501740656078991" xyz="0.04 0.036 -0.019"/>
    <parent link="grisper_boby_link_1"/>
    <child link="right_finger_1_link_1"/>
    <axis xyz="0 0 1"/>
  </joint>
  <link name="right_finger_2_link_1">
    <inertial>
      <origin rpy="0 0 0" xyz="-0.0085798133911776 0.00661394976740351 0.00600000756322747"/>
      <mass value="0.00200167864656235"/>
      <inertia ixx="0" ixy="0" ixz="0" iyy="0" iyz="0" izz="0"/>
    </inertial>
    <visual>
      <origin rpy="0 0 0" xyz="0 0 0"/>
      <geometry>
        <mesh filename="package://hsr_description/meshes/eye_hand_gripper/right_finger_2_link.STL"/>
      </geometry>
      <material name="">
        <color rgba="0.4 0.55 0.35 1"/>
      </material>
    </visual>
    <collision>
      <origin rpy="0 0 0" xyz="0 0 0"/>
      <geometry>
        <mesh filename="package://hsr_description/meshes/eye_hand_gripper/right_finger_2_link.STL"/>
      </geometry>
    </collision>
  </link>
  <joint name="right_finger_2_joint_1" type="continuous">
    <origin rpy="0 0 0.501740656078991" xyz="0 0.042 0.00300000000000001"/>
    <parent link="right_finger_1_link_1"/>
    <child link="right_finger_2_link_1"/>
    <axis xyz="0 0 1"/>
  </joint>
  <link name="right_finger_end_link_1">
    <inertial>
      <origin rpy="0 0 0" xyz="-0.0181096606742553 0.00899999232533871 0.000419374358405108"/>
      <mass value="0.00169081070175499"/>
      <inertia ixx="0" ixy="0" ixz="0" iyy="0" iyz="0" izz="0"/>
    </inertial>
    <visual>
      <origin rpy="0 0 0" xyz="0 0 0"/>
      <geometry>
        <mesh filename="package://hsr_description/meshes/eye_hand_gripper/right_finger_end_link.STL"/>
      </geometry>
      <material name="">
        <color rgba="0.4 0.55 0.35 1"/>
      </material>
    </visual>
    <collision>
      <origin rpy="0 0 0" xyz="0 0 0"/>
      <geometry>
        <mesh filename="package://hsr_description/meshes/eye_hand_gripper/right_finger_end_link.STL"/>
      </geometry>
    </collision>
  </link>
  <joint name="right_finger_end_joint_1" type="fixed">
    <origin rpy="1.5707963267949 0 -1.5707963267949" xyz="-0.0145 -0.0035 -0.00300000000000001"/>
    <parent link="right_finger_2_link_1"/>
    <child link="right_finger_end_link_1"/>
    <axis xyz="0 0 0"/>
  </joint>
  <link name="left_finger_1_link_1">
    <inertial>
      <origin rpy="0 0 0" xyz="-2.92395601426965E-06 0.0168231599777492 0.00897900452955606"/>
      <mass value="0.0023503251697047"/>
      <inertia ixx="0" ixy="0" ixz="0" iyy="0" iyz="0" izz="0"/>
    </inertial>
    <visual>
      <origin rpy="0 0 0" xyz="0 0 0"/>
      <geometry>
        <mesh filename="package://hsr_description/meshes/eye_hand_gripper/left_finger_1_link.STL"/>
      </geometry>
      <material name="">
        <color rgba="0.4 0.55 0.35 1"/>
      </material>
    </visual>
    <collision>
      <origin rpy="0 0 0" xyz="0 0 0"/>
      <geometry>
        <mesh filename="package://hsr_description/meshes/eye_hand_gripper/left_finger_1_link.STL"/>
      </geometry>
    </collision>
  </link>
  <joint name="left_finger_1_joint_1" type="continuous">
    <origin rpy="0 0 0.501740656078991" xyz="-0.04 0.036 -0.019"/>
    <parent link="grisper_boby_link_1"/>
    <child link="left_finger_1_link_1"/>
    <axis xyz="0 0 1"/>
  </joint>
  <link name="left_finger_2_link_1">
    <inertial>
      <origin rpy="0 0 0" xyz="-0.00857981339117761 0.00661394976740348 0.00600000756322748"/>
      <mass value="0.00200167864656235"/>
      <inertia ixx="0" ixy="0" ixz="0" iyy="0" iyz="0" izz="0"/>
    </inertial>
    <visual>
      <origin rpy="0 0 0" xyz="0 0 0"/>
      <geometry>
        <mesh filename="package://hsr_description/meshes/eye_hand_gripper/left_finger_2_link.STL"/>
      </geometry>
      <material name="">
        <color rgba="0.4 0.55 0.35 1"/>
      </material>
    </visual>
    <collision>
      <origin rpy="0 0 0" xyz="0 0 0"/>
      <geometry>
        <mesh filename="package://hsr_description/meshes/eye_hand_gripper/left_finger_2_link.STL"/>
      </geometry>
    </collision>
  </link>
  <joint name="left_finger_2_joint_1" type="continuous">
    <origin rpy="3.14159265358979 0 2.6398519975108" xyz="0 0.0419999999999999 0.0149999999999995"/>
    <parent link="left_finger_1_link_1"/>
    <child link="left_finger_2_link_1"/>
    <axis xyz="0 0 1"/>
  </joint>
  <link name="left_finger_end_link_1">
    <inertial>
      <origin rpy="0 0 0" xyz="-0.0181096606742553 0.00899999232533872 0.000419374358405097"/>
      <mass value="0.00169081070175499"/>
      <inertia ixx="0" ixy="0" ixz="0" iyy="0" iyz="0" izz="0"/>
    </inertial>
    <visual>
      <origin rpy="0 0 0" xyz="0 0 0"/>
      <geometry>
        <mesh filename="package://hsr_description/meshes/eye_hand_gripper/left_finger_end_link.STL"/>
      </geometry>
      <material name="">
        <color rgba="0.4 0.55 0.35 1"/>
      </material>
    </visual>
    <collision>
      <origin rpy="0 0 0" xyz="0 0 0"/>
      <geometry>
        <mesh filename="package://hsr_description/meshes/eye_hand_gripper/left_finger_end_link.STL"/>
      </geometry>
    </collision>
  </link>
  <joint name="left_finger_end_joint_1" type="fixed">
    <origin rpy="1.5707963267949 8.67361737988403E-17 -1.5707963267949" xyz="-0.0144999999999999 -0.0035 -0.00299999999999996"/>
    <parent link="left_finger_2_link_1"/>
    <child link="left_finger_end_link_1"/>
    <axis xyz="0 0 0"/>
  </joint>
  <link name="pick_gripper_link_1">
    <visual>
      <origin rpy="0 0 0" xyz="0 0 0"/>
      <geometry>
        <box size="0.001 0.0005 0.0005"/>
      </geometry>
    </visual>
  </link>
  <transmission name="tran1_1">
    <type>transmission_interface/SimpleTransmission</type>
    <joint name="right_finger_1_joint_1">
      <hardwareInterface>PositionJointInterface</hardwareInterface>
    </joint>
    <actuator name="right_finger_1_motor_1">
      <hardwareInterface>PositionJointInterface</hardwareInterface>
      <mechanicalReduction>1</mechanicalReduction>
    </actuator>
  </transmission>
  <transmission name="tran2_1">
    <type>transmission_interface/SimpleTransmission</type>
    <joint name="right_finger_2_joint_1">
      <hardwareInterface>PositionJointInterface</hardwareInterface>
    </joint>
    <actuator name="right_finger_2_motor_1">
      <hardwareInterface>PositionJointInterface</hardwareInterface>
      <mechanicalReduction>1</mechanicalReduction>
    </actuator>
  </transmission>
  <transmission name="tran3_1">
    <type>transmission_interface/SimpleTransmission</type>
    <joint name="left_finger_1_joint_1">
      <hardwareInterface>PositionJointInterface</hardwareInterface>
    </joint>
    <actuator name="left_finger_1_motor_1">
      <hardwareInterface>PositionJointInterface</hardwareInterface>
      <mechanicalReduction>1</mechanicalReduction>
    </actuator>
  </transmission>
  <transmission name="tran4_1">
    <type>transmission_interface/SimpleTransmission</type>
    <joint name="left_finger_2_joint_1">
      <hardwareInterface>PositionJointInterface</hardwareInterface>
    </joint>
    <actuator name="left_finger_2_motor_1">
      <hardwareInterface>PositionJointInterface</hardwareInterface>
      <mechanicalReduction>1</mechanicalReduction>
    </actuator>
  </transmission>
  <!--///////////////////////////////////////////////////////////////////////-->
  <joint name="gripper_robot_joint_0" type="fixed">
    <parent link="link6"/>
    <child link="gripper_base_link_0"/>
    <origin rpy="0 0 3.14" xyz="0.0 0.0 0.0"/>
  </joint>
  <joint name="pick_gripper_joint_0" type="fixed">
    <origin rpy="0 -1.5708 1.5708" xyz="0 0.0 0.15"/>
    <axis xyz="0 0 1"/>
    <parent link="gripper_base_link_0"/>
    <child link="pick_gripper_link_0"/>
  </joint>
  <!--<//////////////////////////////////////////////////////////////////>-->
  <joint name="gripper_robot_joint_1" type="fixed">
    <parent link="R_link6"/>
    <child link="gripper_base_link_1"/>
    <origin rpy="0 0 3.14" xyz="0.0 0.0 0.0"/>
  </joint>
  <joint name="pick_gripper_joint_1" type="fixed">
    <origin rpy="0 -1.5708 1.5708" xyz="0 0.0 0.15"/>
    <axis xyz="0 0 1"/>
    <parent link="gripper_base_link_1"/>
    <child link="pick_gripper_link_1"/>
  </joint>
  <joint name="kinect_base_link_joint" type="fixed">
    <origin rpy=" 0 0 0" xyz="-0.5 -0.5 1"/>
    <parent link="base_link"/>
    <child link="camera_link"/>
  </joint>
</robot>
